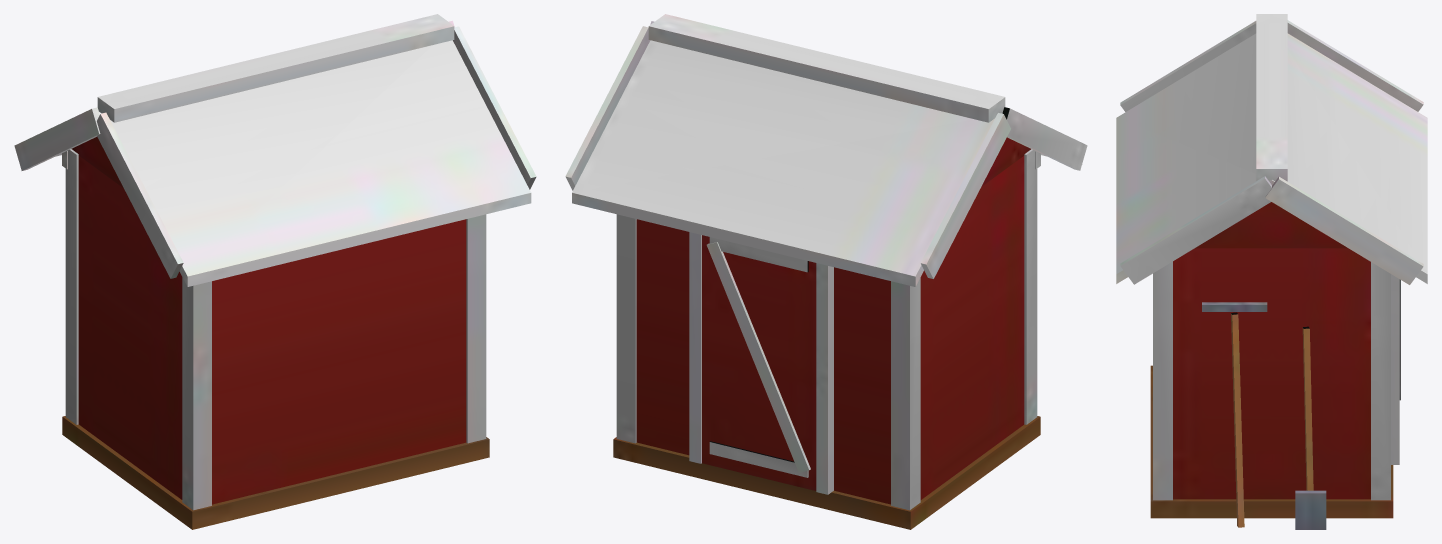
Rendered from storehouse_1_low.glb.
3 views of the same model, side by side, from view 1: azimuth 30°, elevation 25°; view 2: azimuth 150°, elevation 25°; view 3: azimuth 270°, elevation 25° (orthographic). The views are drawn at different scales.
Visible parts, largest first — view 1: shed1_red_low; view 2: shed1_red_low, door; view 3: shed1_red_low.
Part boxes in pixels (x1,y1,x2,y2): shed1_red_low: (14,14,536,529); shed1_red_low: (565,14,1087,529); door: (702,235,816,490); shed1_red_low: (1116,14,1427,529).
Size of the model in its own units: 2.5 by 2.55 by 2.
Materials: 5 (5 with a texture image).
